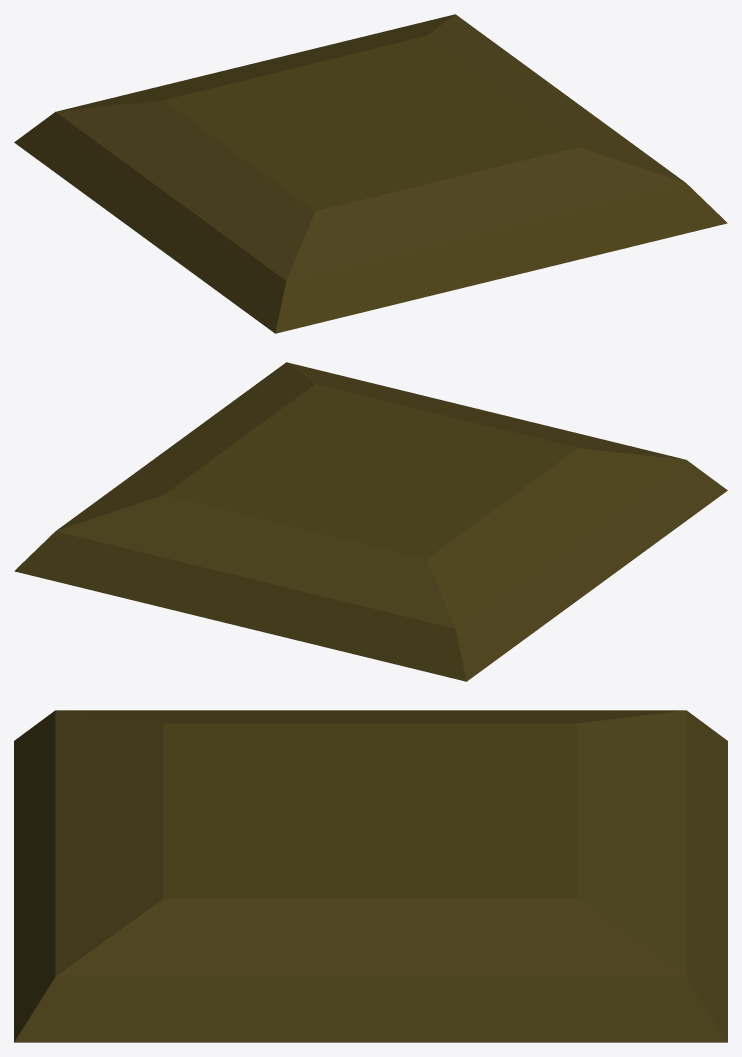
The model's file is fa_unplantedA.glb.
The picture shows the model from 3 angles, top to bottom: view 1: azimuth 30°, elevation 25°; view 2: azimuth 150°, elevation 25°; view 3: azimuth 270°, elevation 25°; orthographic projection. The views are drawn at different scales.
Parts seen in each view (by area): view 1: farmingArea_unplanted; view 2: farmingArea_unplanted; view 3: farmingArea_unplanted.
Boxes of the visible parts, bbox=[...] form: farmingArea_unplanted: bbox=[14, 14, 727, 333]; farmingArea_unplanted: bbox=[14, 362, 727, 681]; farmingArea_unplanted: bbox=[14, 710, 727, 1042].
Size of the model in its own units: 0.8 by 0.1 by 0.8.
